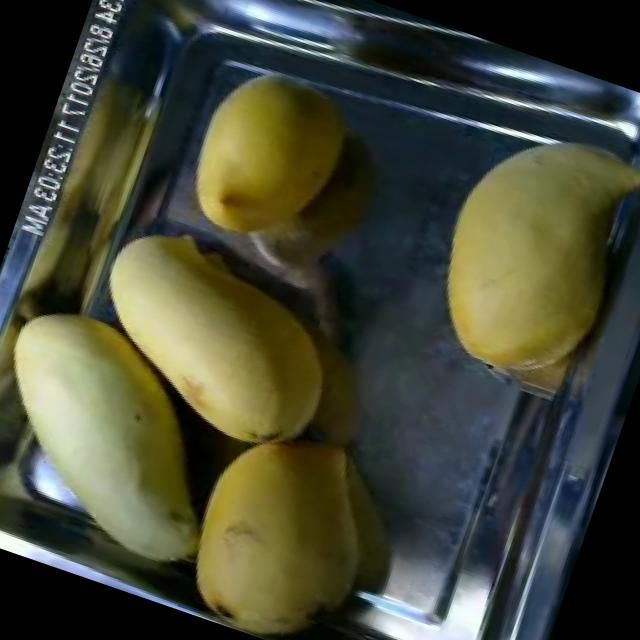fruit: (60, 204, 382, 494), (0, 264, 255, 600), (400, 96, 640, 408), (169, 395, 418, 640), (162, 51, 372, 273)
